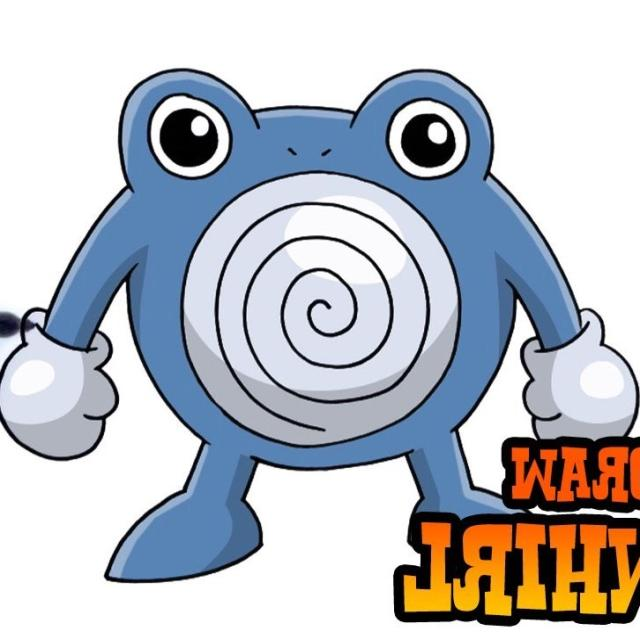Poliwhirl: (6, 56, 527, 522)
